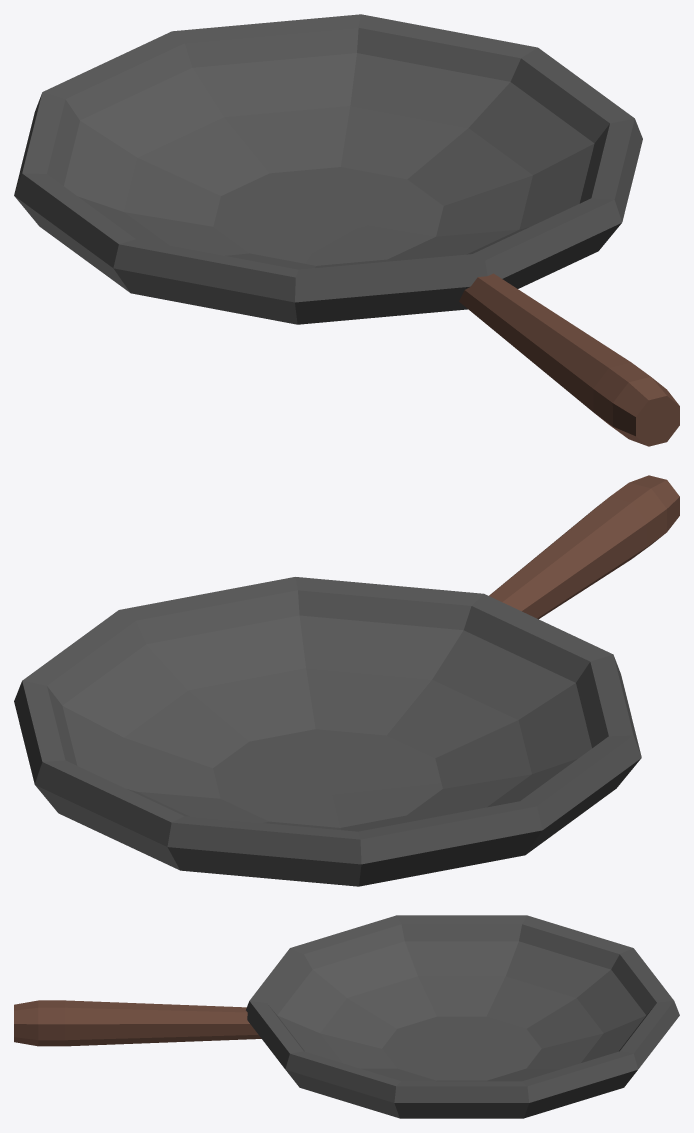
The model's file is FryingPan.glb.
3 renders of one model, top to bottom at view 1: azimuth 30°, elevation 25°; view 2: azimuth 150°, elevation 25°; view 3: azimuth 270°, elevation 25°, orthographic. The views are drawn at different scales.
Visible parts, largest first — view 1: FryingPan; view 2: FryingPan; view 3: FryingPan.
Boxes of the visible parts, bbox=[...] form: FryingPan: bbox=[14, 14, 679, 446]; FryingPan: bbox=[14, 475, 679, 886]; FryingPan: bbox=[14, 915, 679, 1118].
Size of the model in its own units: 1.74 by 0.253 by 2.79.
